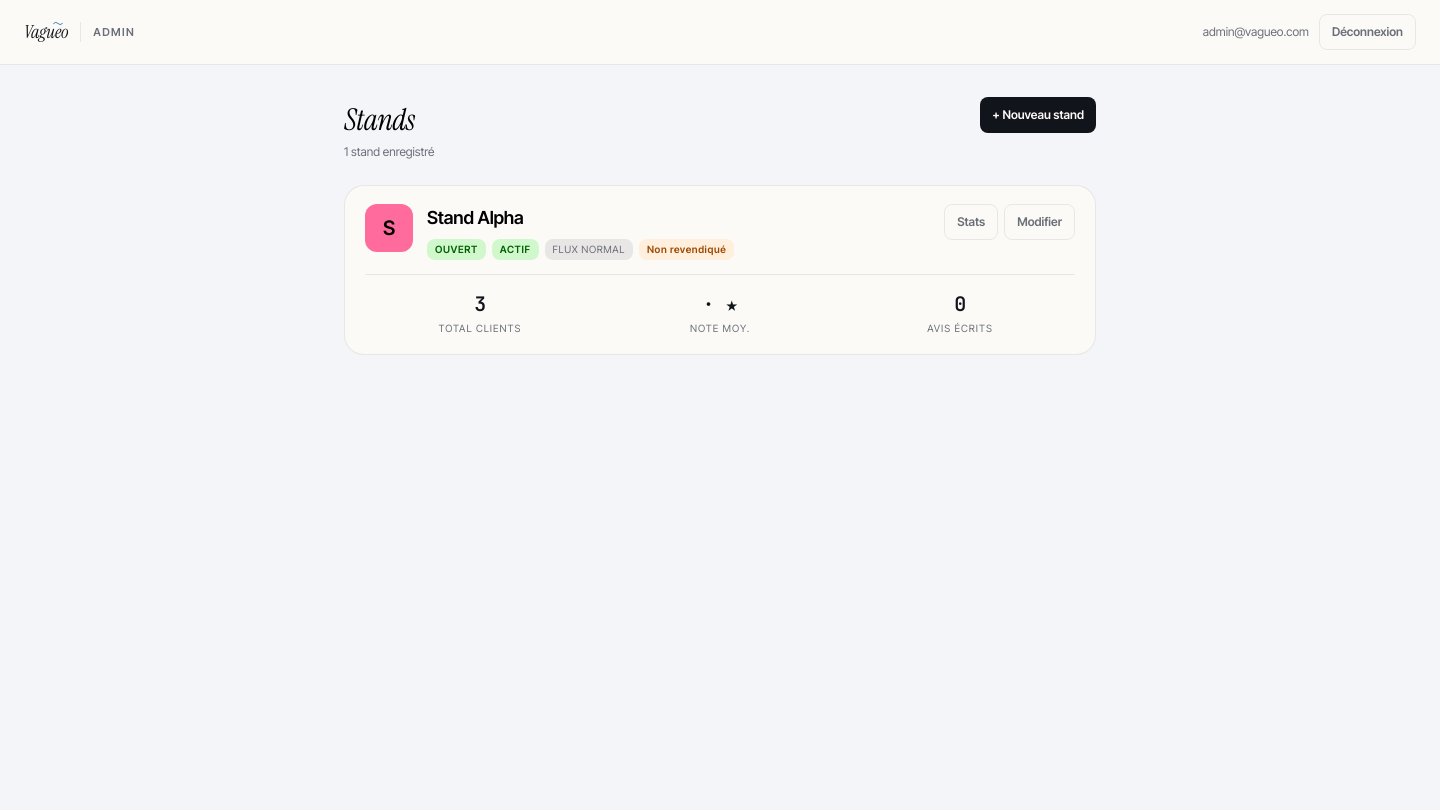
Test: AdminApp › closes StandEditor on Annuler
Click the button "Modifier" at {"x": 1040, "y": 222}, box [1004,204,1075,240]
(page scrolled)
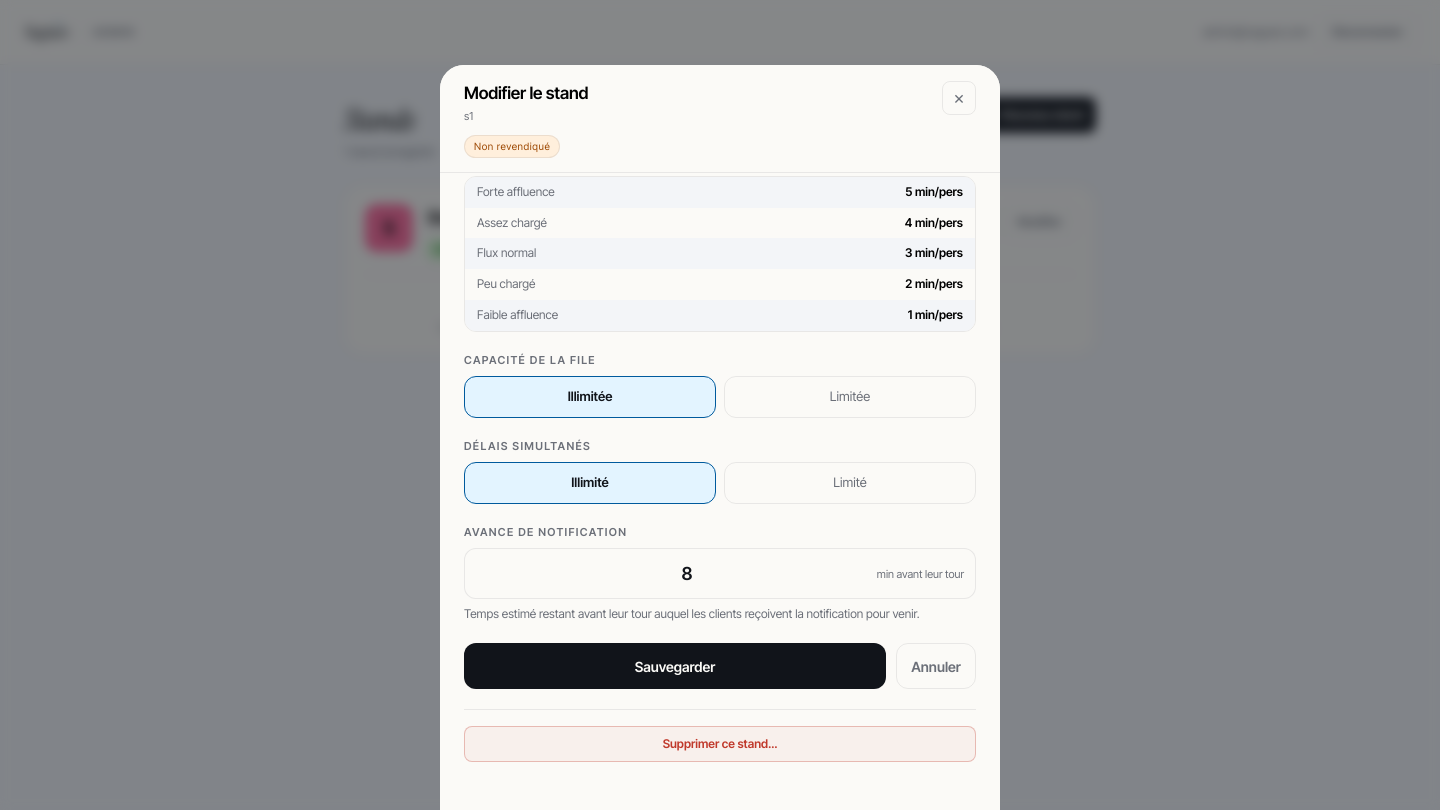
Click the button "Annuler" at {"x": 936, "y": 666}, box [896,643,976,689]
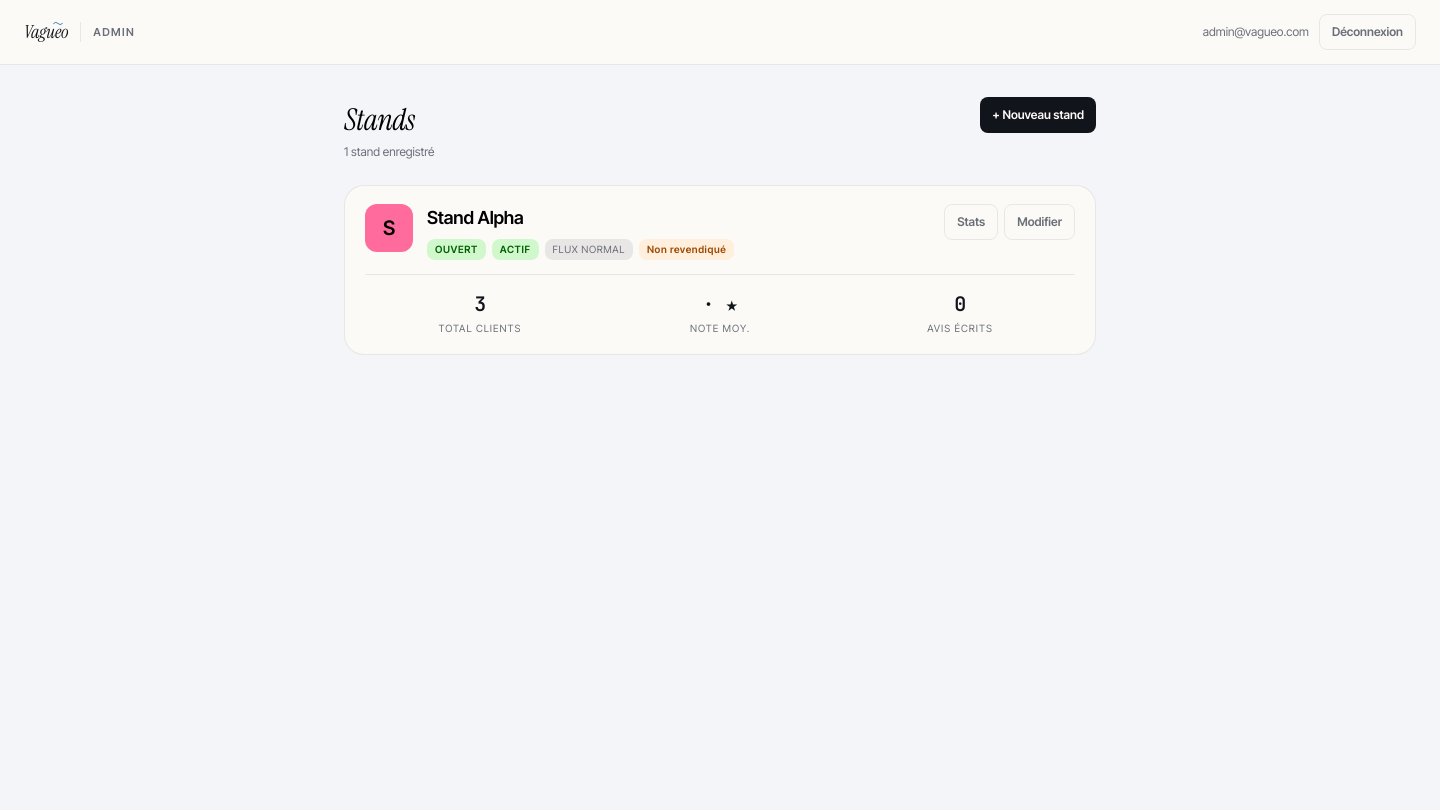
Expected: the text "Modifier le stand" is gone
